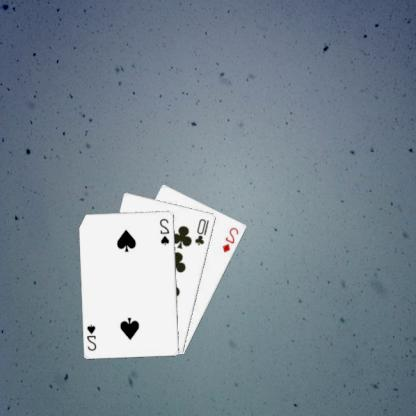10C: (194, 216, 212, 246)
2D: (221, 225, 242, 254)
2S: (86, 321, 100, 352), (159, 216, 173, 246)
